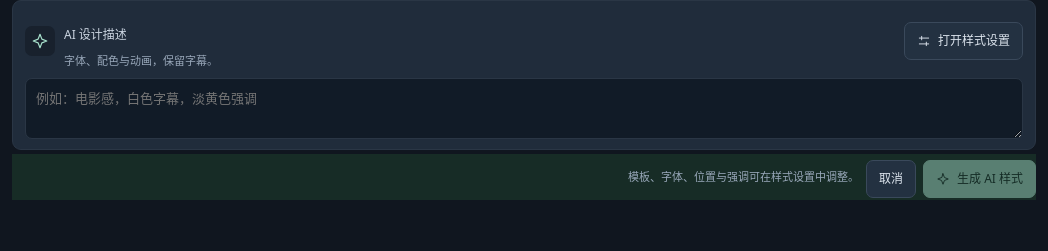
Test: style design operation › retains the design draft and shows a generation error for retry
In the text box labelled "AI 设计描述": (524, 109) top-left (25, 78), bottom-right (1023, 140), type "电影感"
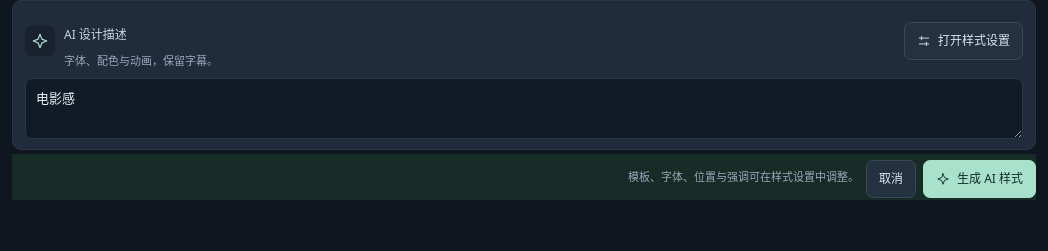
Click the button "生成 AI 样式": (980, 179) top-left (923, 160), bottom-right (1036, 198)
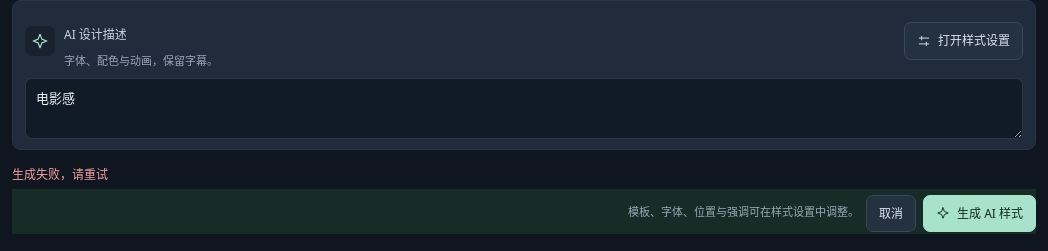
Expected: the message reads "生成失败，请重试", top-left (12, 166), bottom-right (108, 184)
